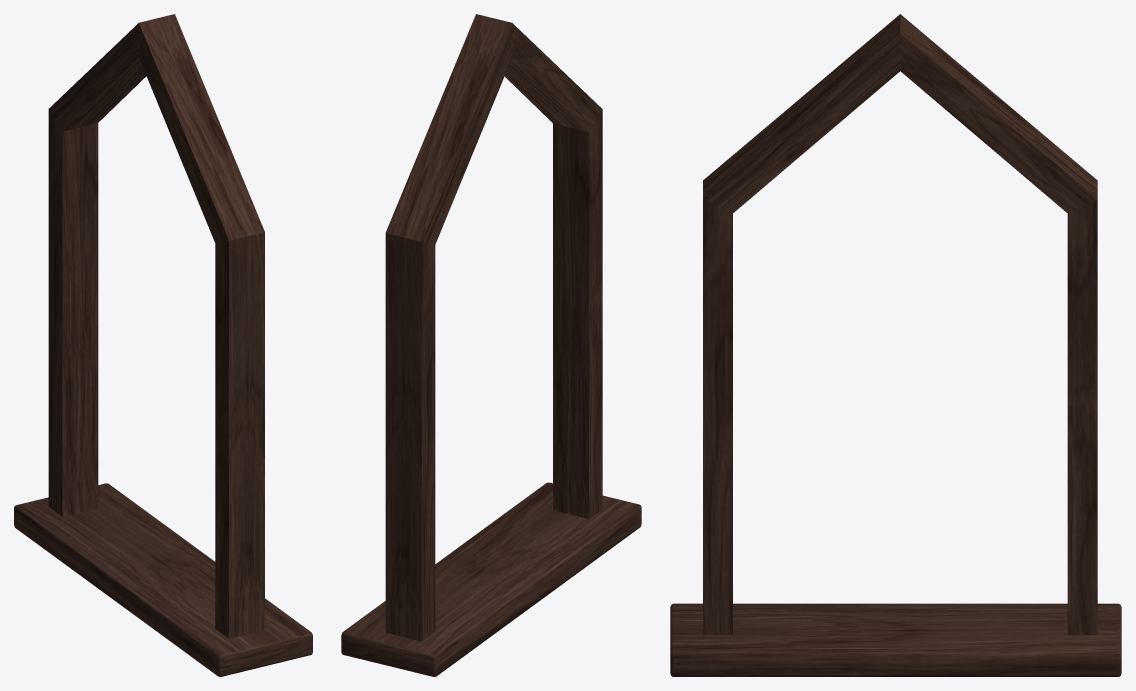
File: WindowFrame.fbx
3 views of the same model, side by side, from view 1: azimuth 30°, elevation 25°; view 2: azimuth 150°, elevation 25°; view 3: azimuth 270°, elevation 25° (orthographic). The views are drawn at different scales.
Visible parts, largest first — view 1: Cube.001; view 2: Cube.001; view 3: Cube.001.
Boxes of the visible parts, x1,y1,x2,y2 form: Cube.001: [14, 14, 312, 676]; Cube.001: [341, 14, 641, 676]; Cube.001: [670, 14, 1121, 676].
Size of the model in its own units: 75.06 by 433 by 282.
